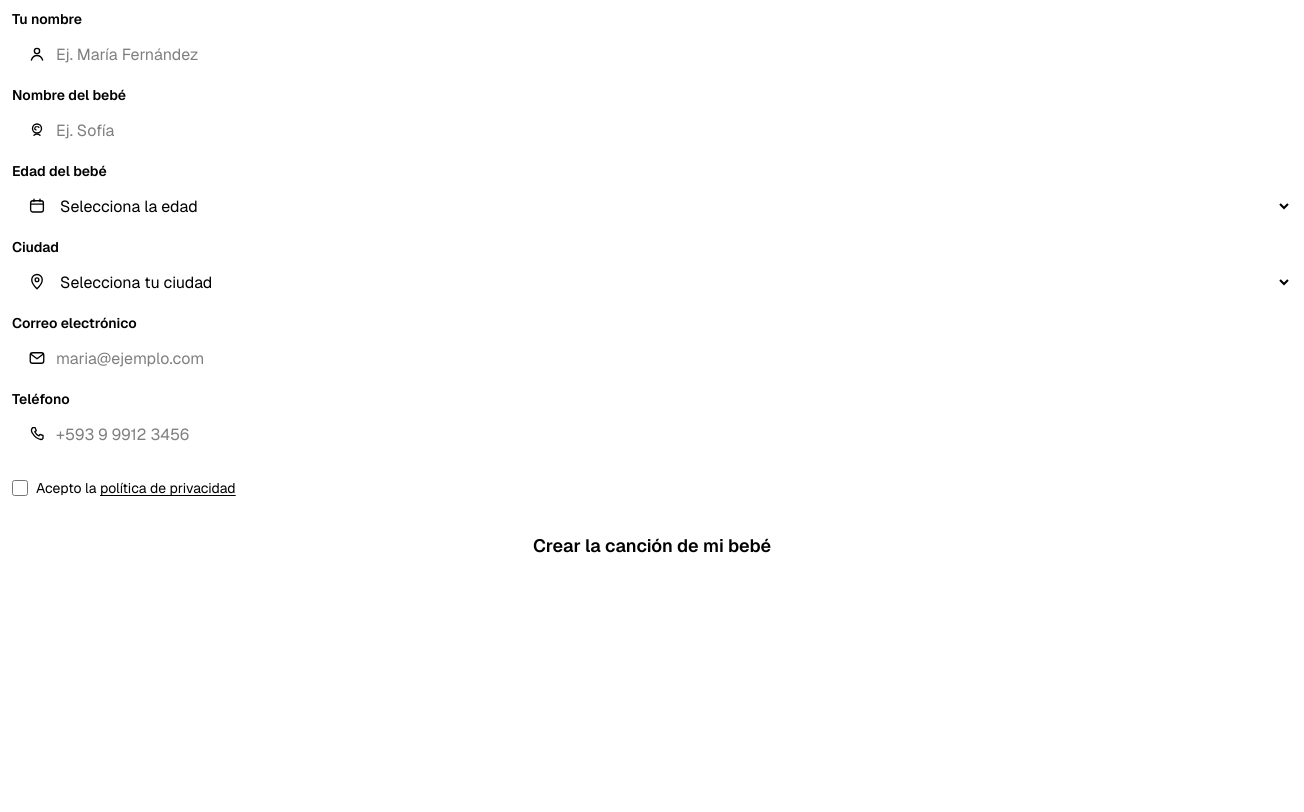
RegistrationForm › shows a field-level error when the email is already registered
In the field labelled "Tu nombre": (652, 54) [12, 30, 1292, 78], type "Jane Doe"
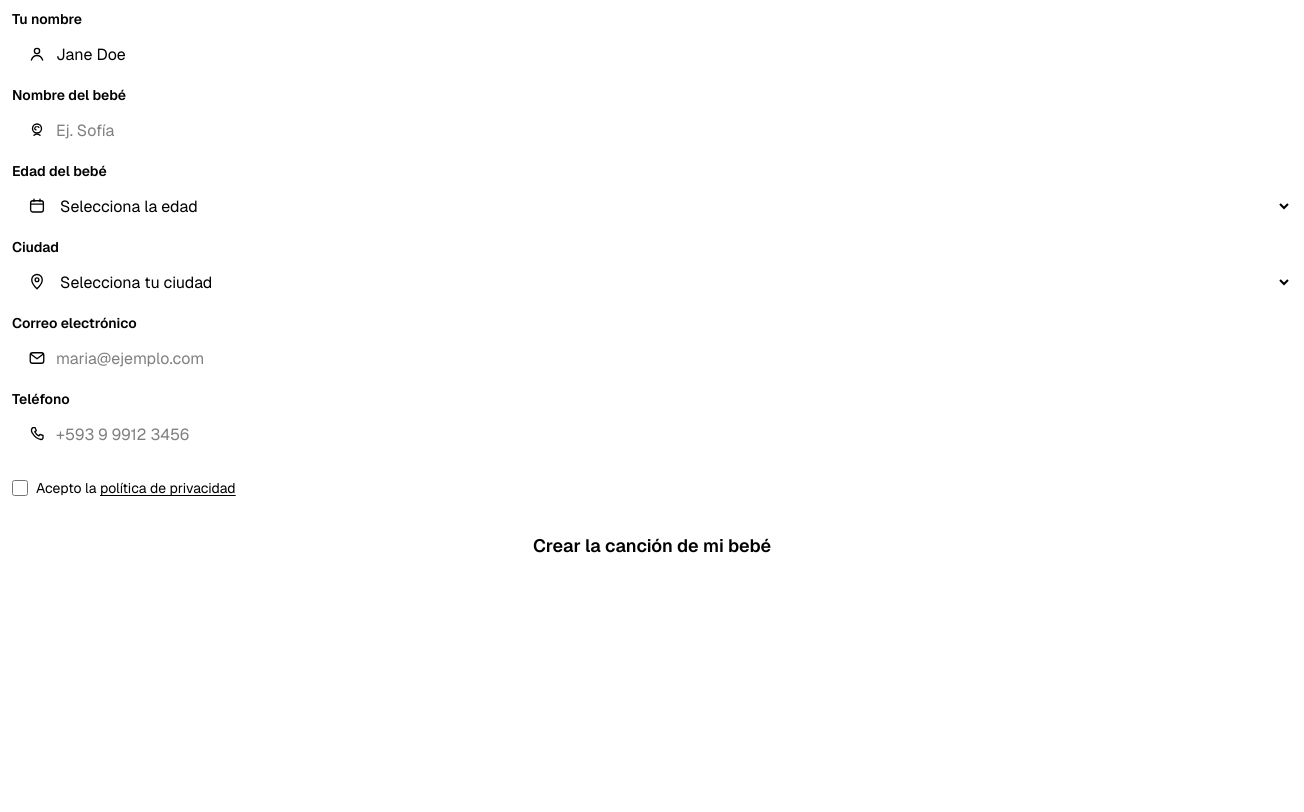
In the field labelled "Nombre del bebé": (652, 130) [12, 106, 1292, 154], type "Baby Doe"
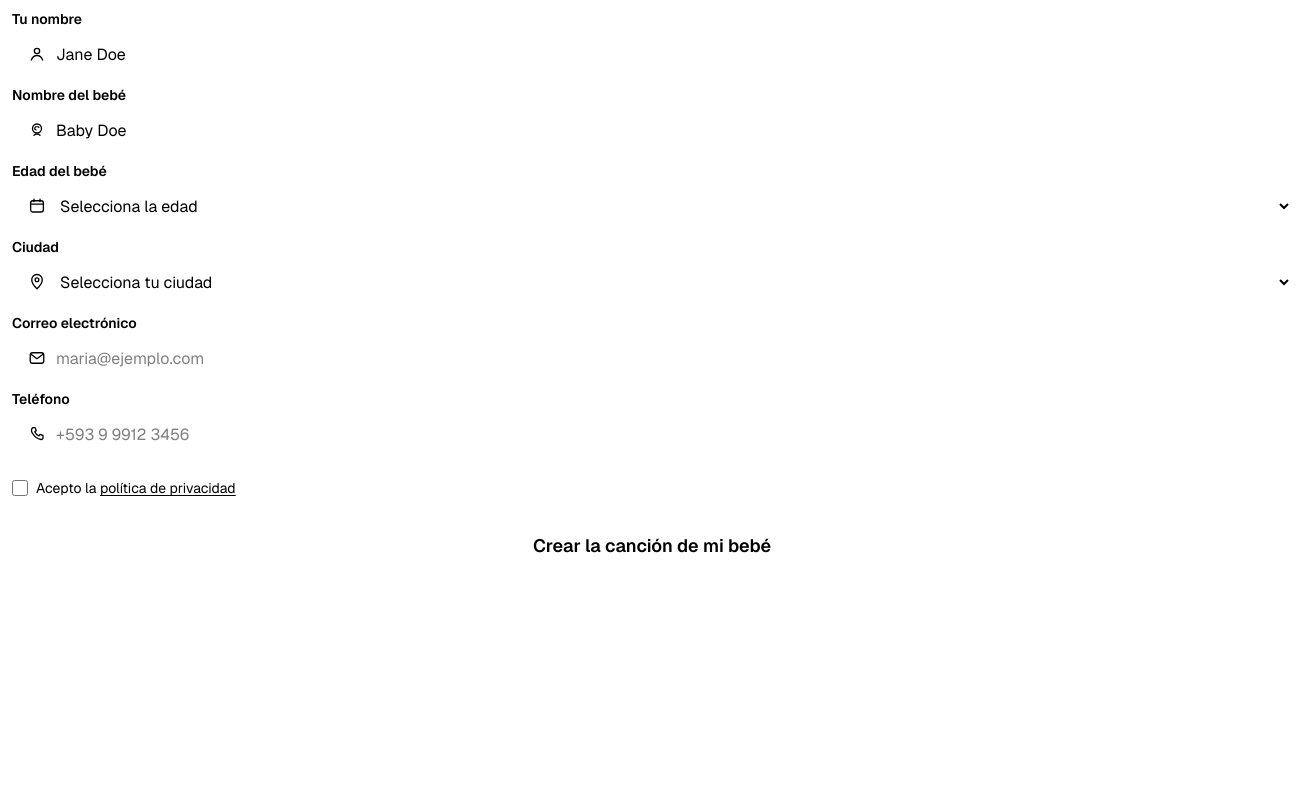
In the field labelled "Correo electrónico": (652, 358) [12, 334, 1292, 382], type "jane@example.com"
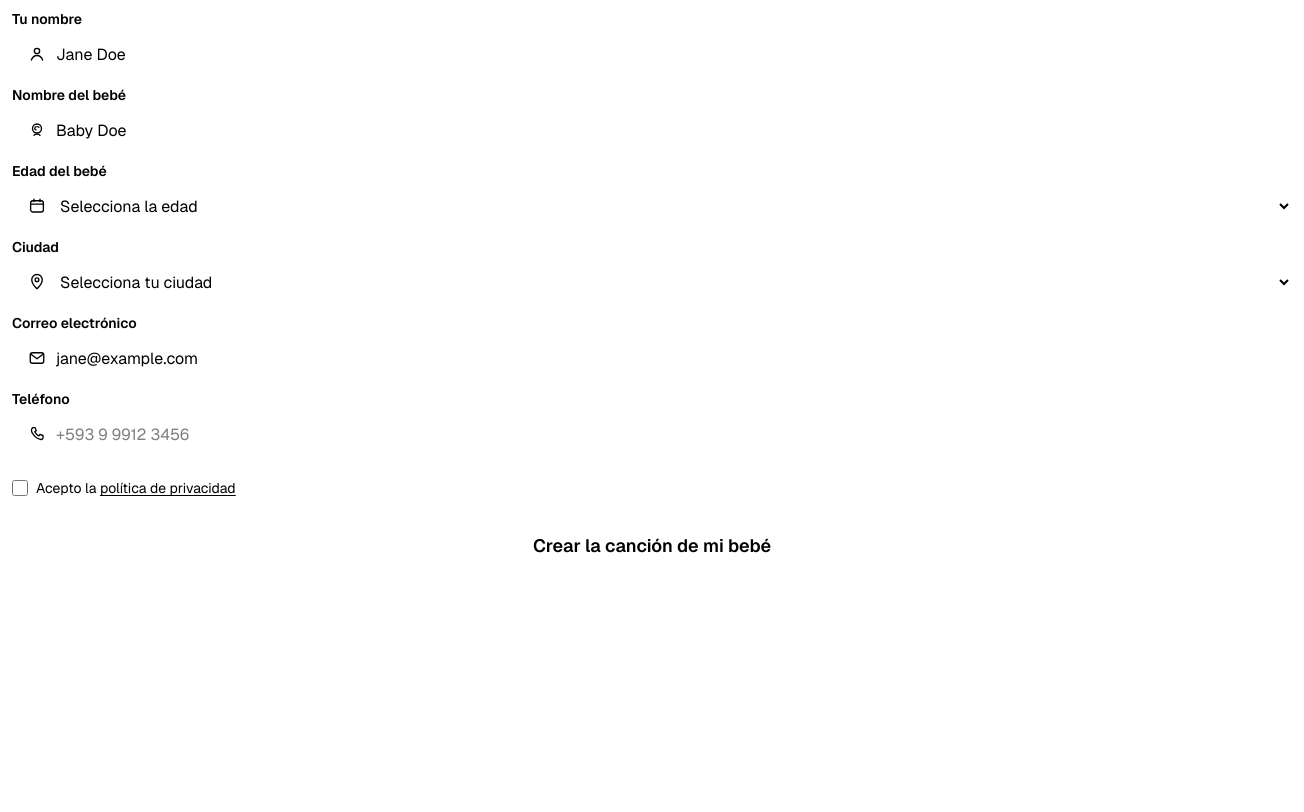
Click the checkbox labelled "Acepto la política de privacidad": (20, 488) [12, 480, 28, 496]
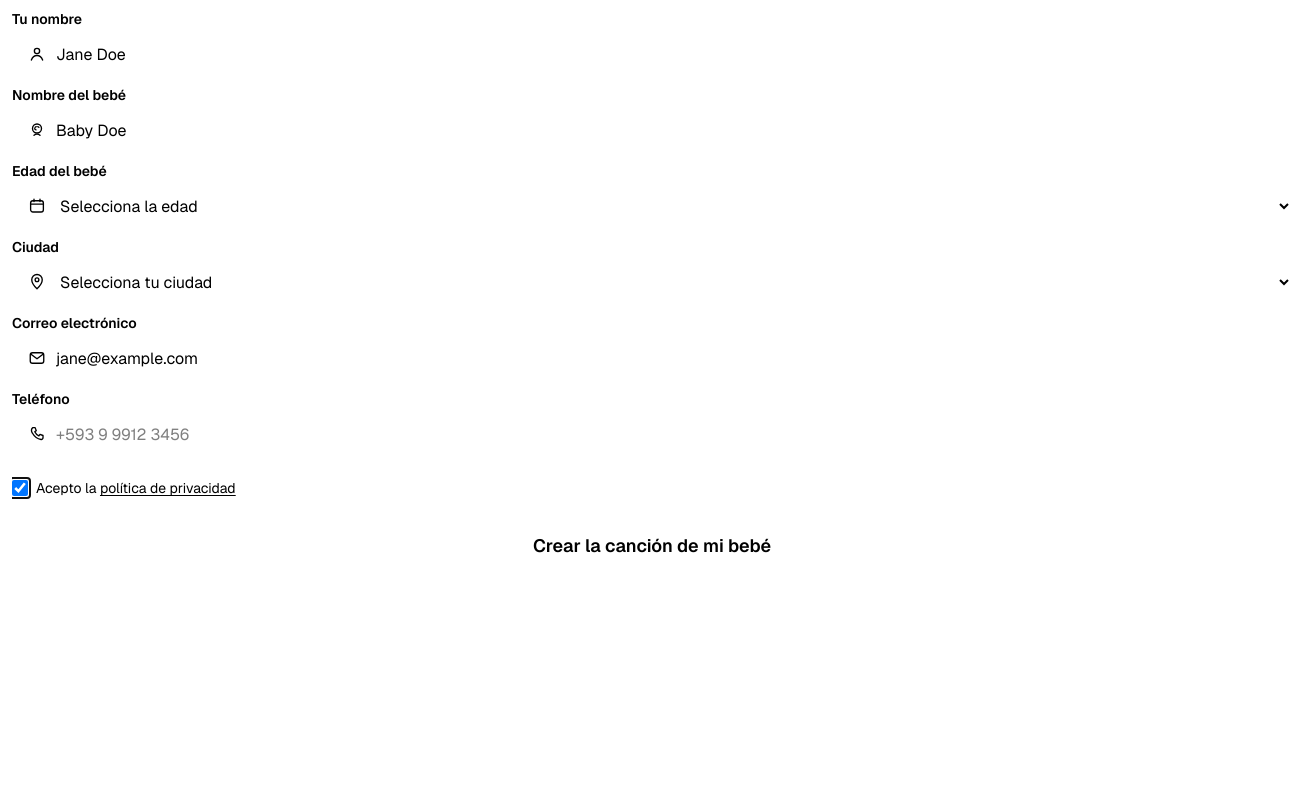
Click the button "Crear la canción de mi bebé": (652, 546) [12, 518, 1292, 574]
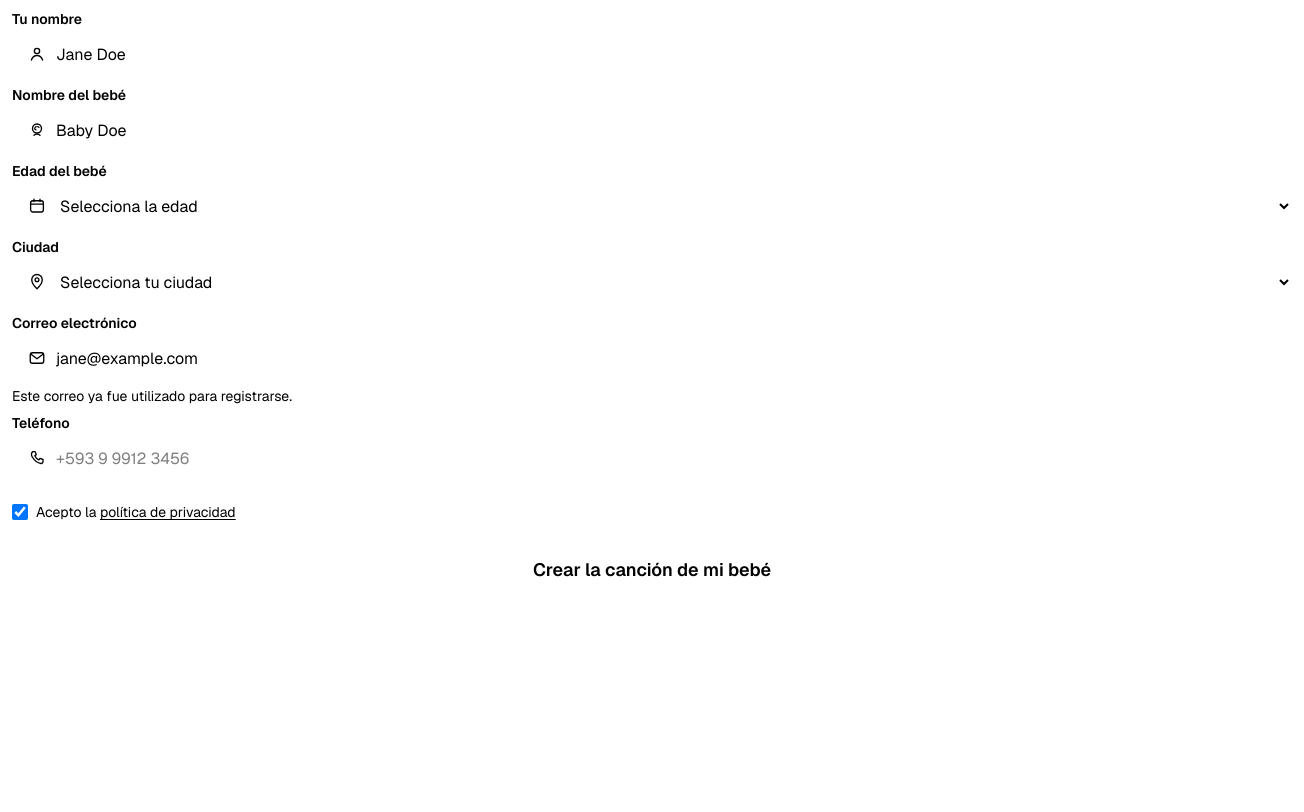
Check: the text "Este correo ya fue utilizado para registrarse." is shown, box [12, 387, 292, 405]
